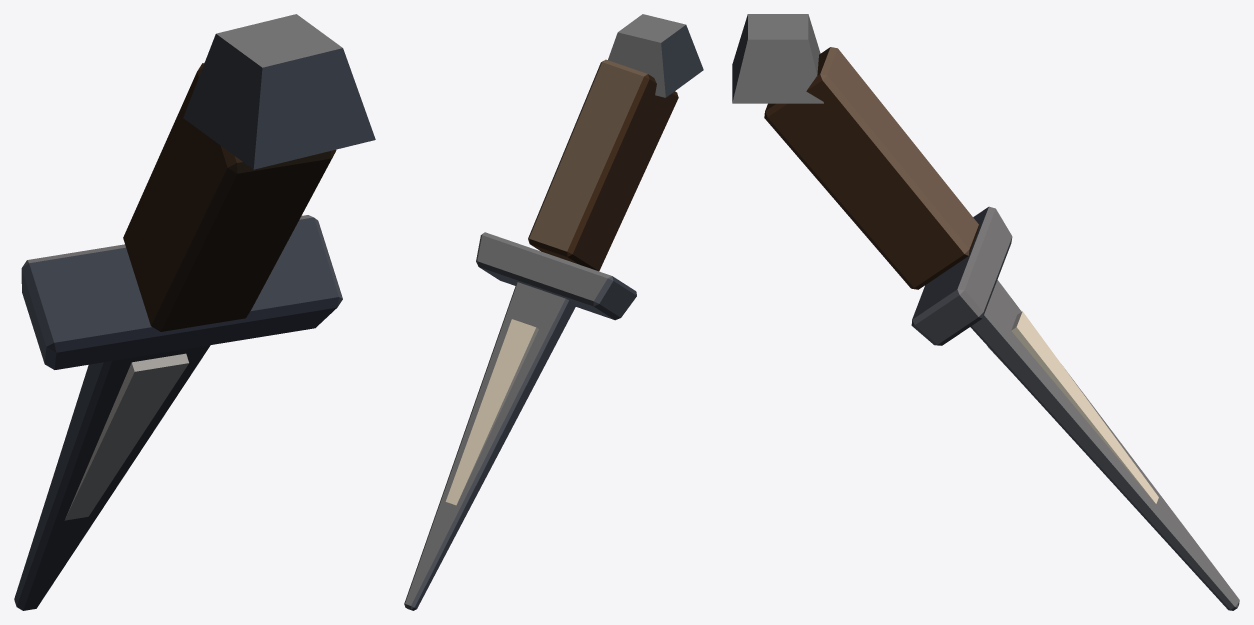
3 views of the same model, side by side, from view 1: azimuth 30°, elevation 25°; view 2: azimuth 150°, elevation 25°; view 3: azimuth 270°, elevation 25° (orthographic). The views are drawn at different scales.
Visible parts, largest first — view 1: 匕首; view 2: 匕首; view 3: 匕首.
Boxes of the visible parts, x1,y1,x2,y2 form: 匕首: (14,14,375,610); 匕首: (404,14,703,610); 匕首: (732,14,1239,610).
Size of the model in its own units: 0.1164 by 0.3352 by 0.2796.
1 material, 1 textured.
